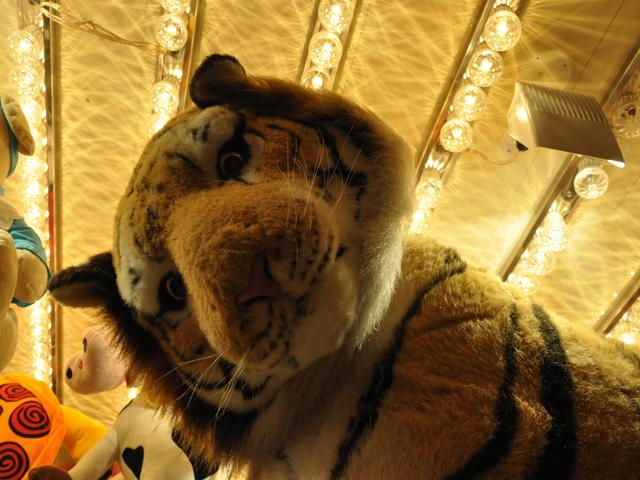tiger: (44, 21, 527, 447)
